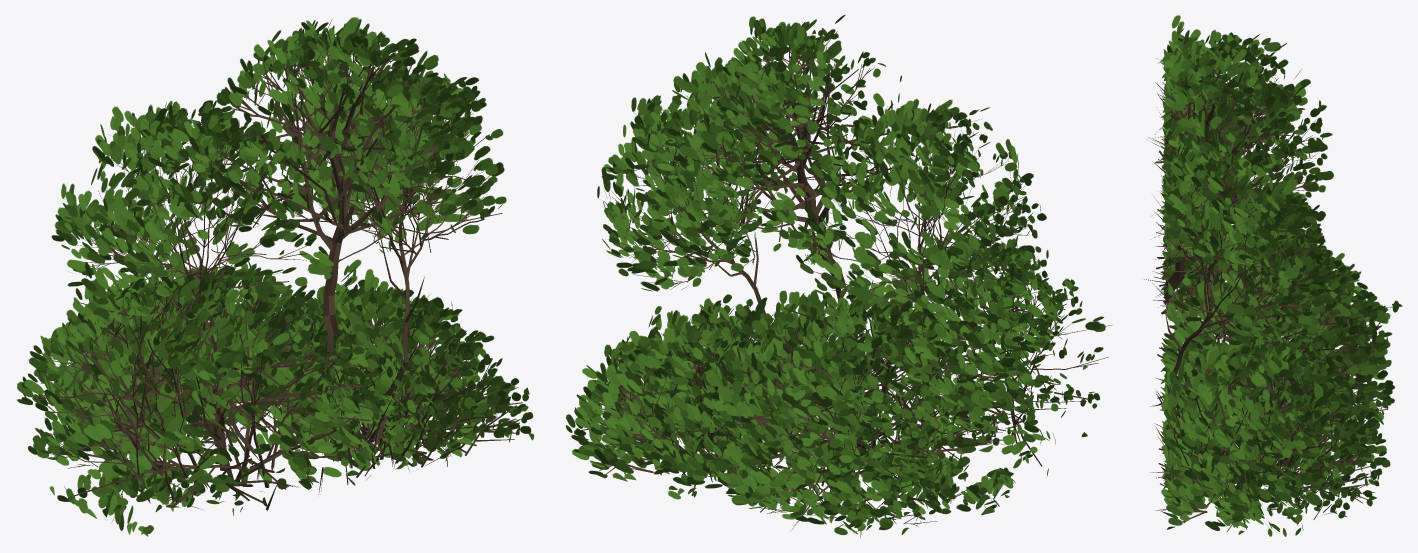
3 views of the same model, side by side, from view 1: azimuth 30°, elevation 25°; view 2: azimuth 150°, elevation 25°; view 3: azimuth 270°, elevation 25° (orthographic). The views are drawn at different scales.
Visible parts, largest first — view 1: oak 01.001_trunk_Mat.001_0.210; view 2: oak 01.001_trunk_Mat.001_0.210; view 3: oak 01.001_trunk_Mat.001_0.210.
Part boxes in pixels (x1,y1,x2,y2): oak 01.001_trunk_Mat.001_0.210: (16, 17, 534, 536); oak 01.001_trunk_Mat.001_0.210: (565, 14, 1111, 537); oak 01.001_trunk_Mat.001_0.210: (1144, 15, 1402, 536).
Bounding box in the file's own units: 4.09 × 3.61 × 2.
Materials: 2 (1 with a texture image).
